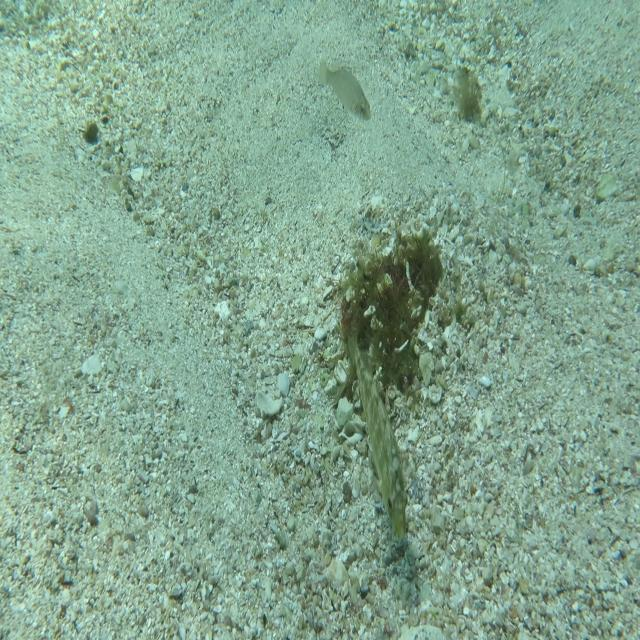SA: (346, 330, 409, 544)
core_nest: (396, 253, 436, 283)
female: (317, 60, 373, 122)
nest: (334, 219, 459, 414)
